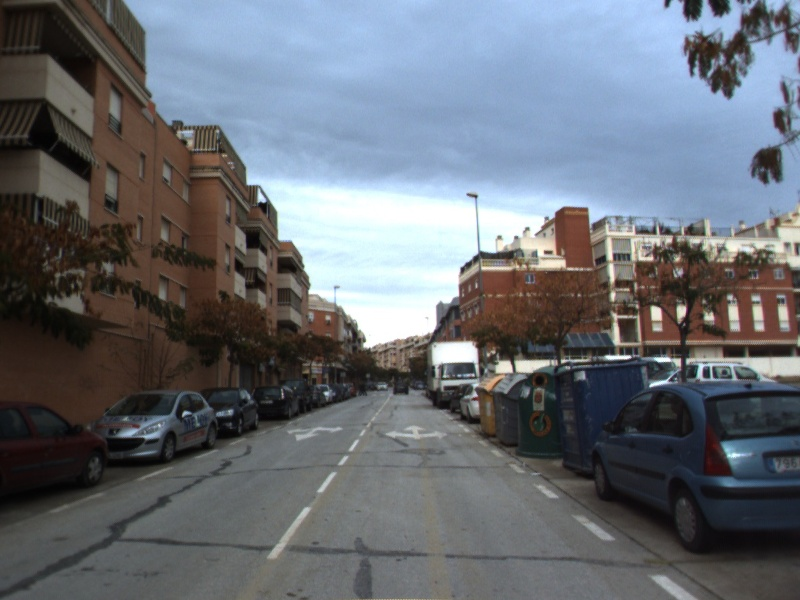STRAIGHT_LEFT_RIGHT: (383, 422, 450, 442)
